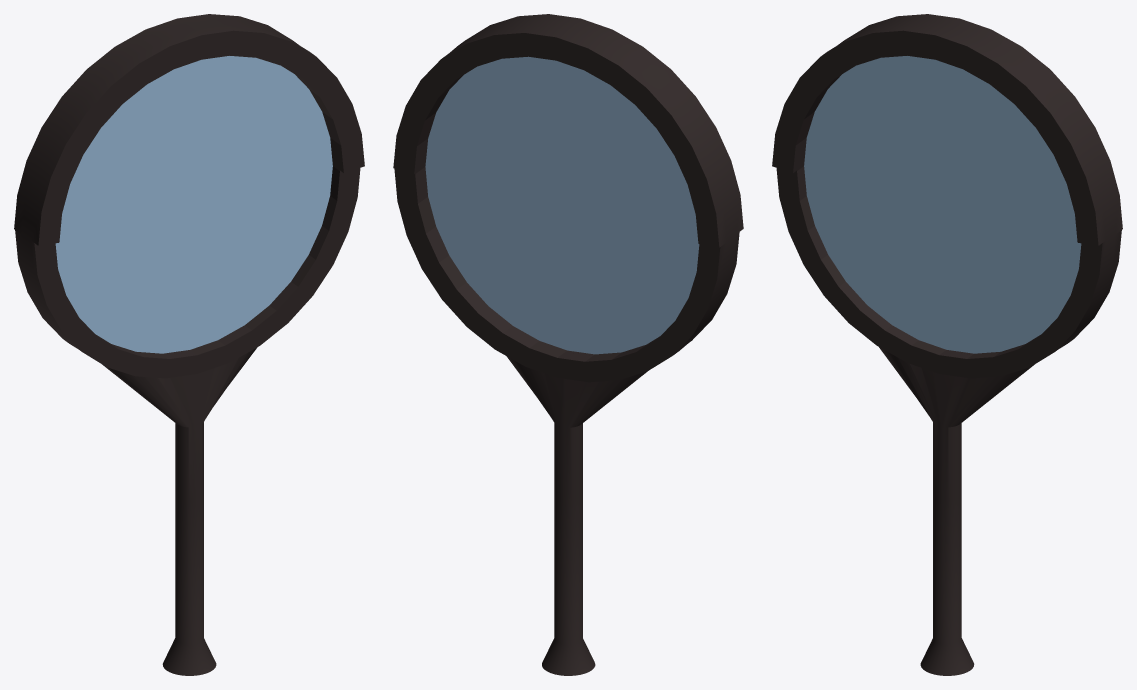
Rendered from ghostdodger.fbx.
3 renders of one model, left to right at view 1: azimuth 30°, elevation 25°; view 2: azimuth 150°, elevation 25°; view 3: azimuth 330°, elevation 25°, orthographic.
Parts seen in each view (by area): view 1: Cylinder.003, Cylinder; view 2: Cylinder.003, Cylinder; view 3: Cylinder.003, Cylinder.
Part boxes in pixels (bbox=[...]): Cylinder.003: bbox=[55, 56, 332, 353]; Cylinder: bbox=[14, 14, 364, 675]; Cylinder.003: bbox=[425, 56, 699, 354]; Cylinder: bbox=[393, 14, 743, 675]; Cylinder.003: bbox=[804, 56, 1081, 353]; Cylinder: bbox=[772, 14, 1122, 675].
Size of the model in its own units: 341 by 636 by 48.53.
